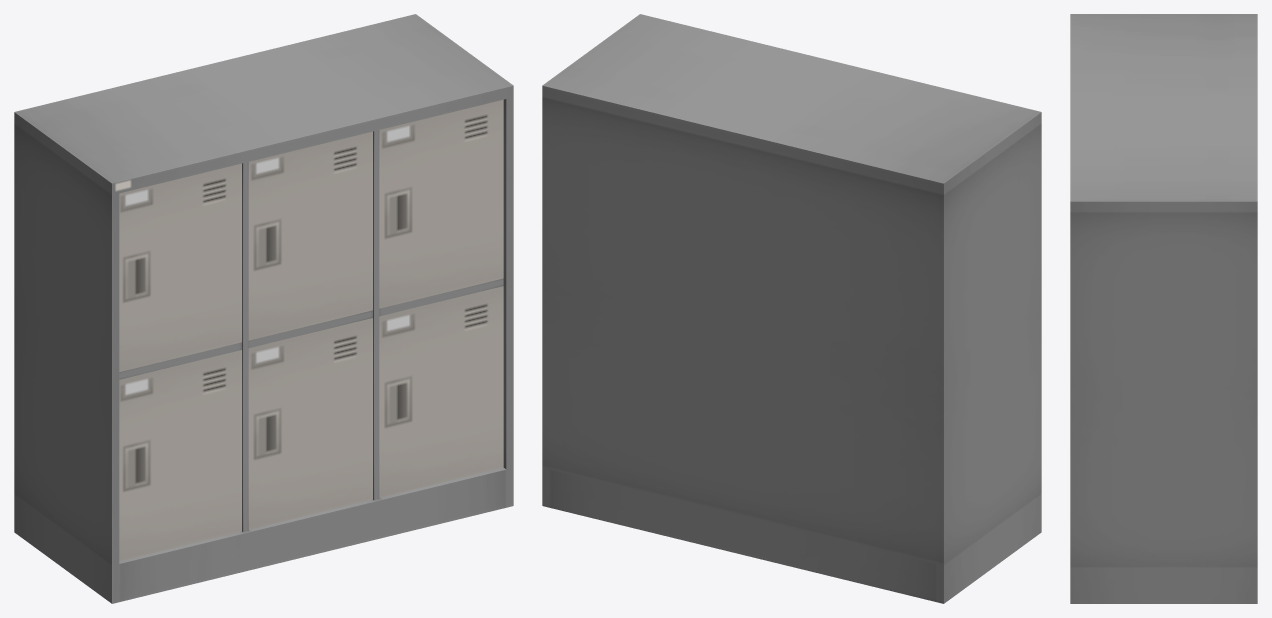
File: SHW_Rack_01_01.fbx
3 renders of one model, left to right at view 1: azimuth 30°, elevation 25°; view 2: azimuth 150°, elevation 25°; view 3: azimuth 270°, elevation 25°, orthographic. The views are drawn at different scales.
Parts seen in each view (by area): view 1: rack01, door04, door06, door03, door05, door02, door01; view 2: rack01; view 3: rack01.
Part boxes in pixels (x1,y1,x2,y2): rack01: (14, 14, 513, 603); door04: (248, 318, 372, 529); door06: (379, 286, 503, 497); door03: (248, 131, 372, 340); door05: (379, 99, 503, 308); door02: (119, 350, 241, 561); door01: (119, 163, 241, 371); rack01: (542, 14, 1041, 603); rack01: (1070, 14, 1257, 603).
Size of the model in its own units: 90 by 90 by 38.
